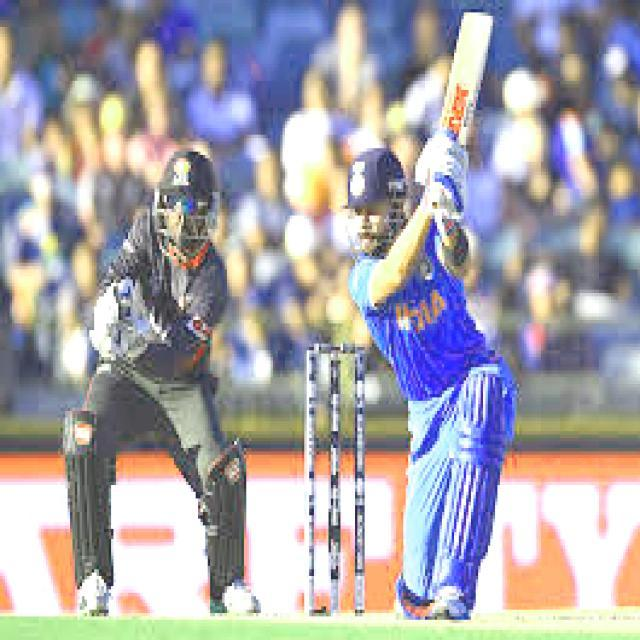bat: (436, 10, 493, 149)
